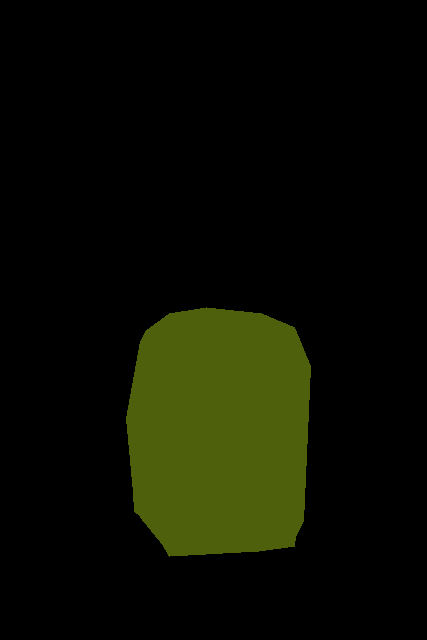Train: (126, 307, 311, 556)
